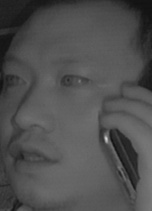eye: (59, 70, 91, 91), (2, 72, 28, 89)
mouth: (6, 136, 64, 175)
